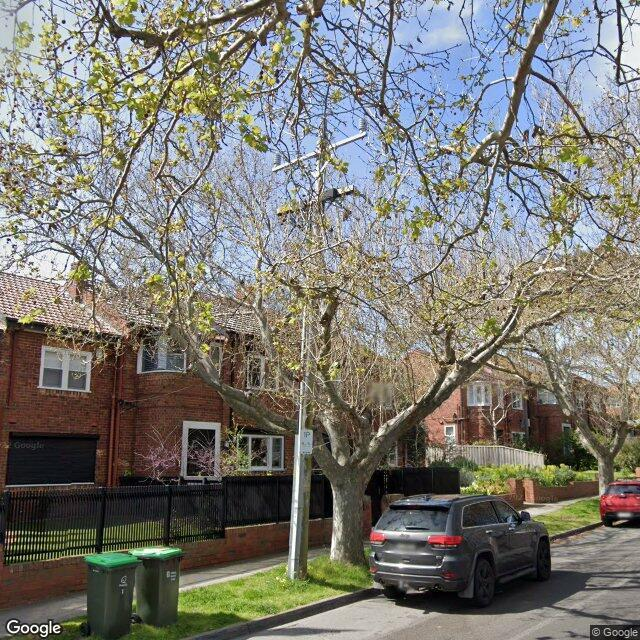HV-transmission: (272, 117, 368, 166)
crossarm: (272, 132, 367, 173), (277, 184, 354, 214)
timber-pole: (289, 130, 326, 580)
